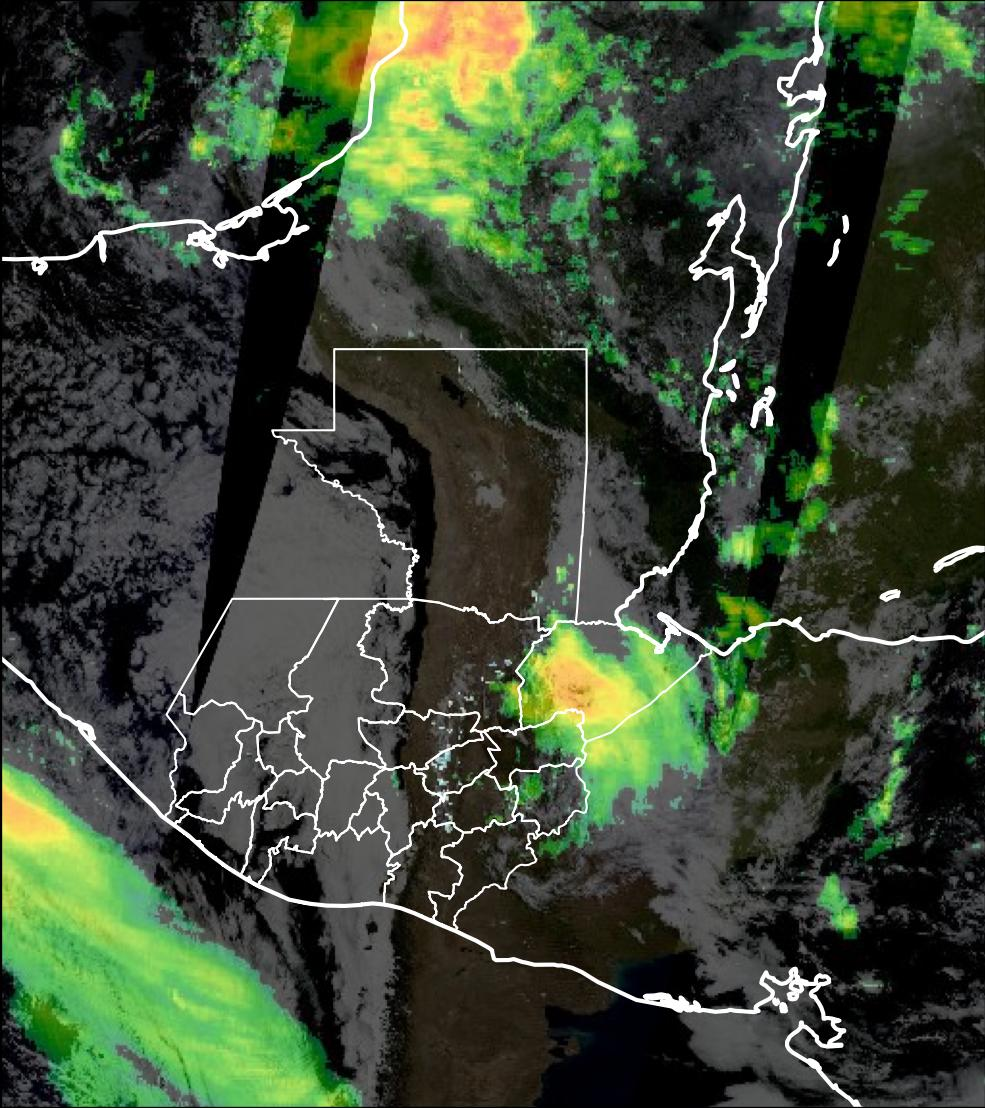precipitacion: (325, 1, 533, 103), (1, 785, 73, 864)
